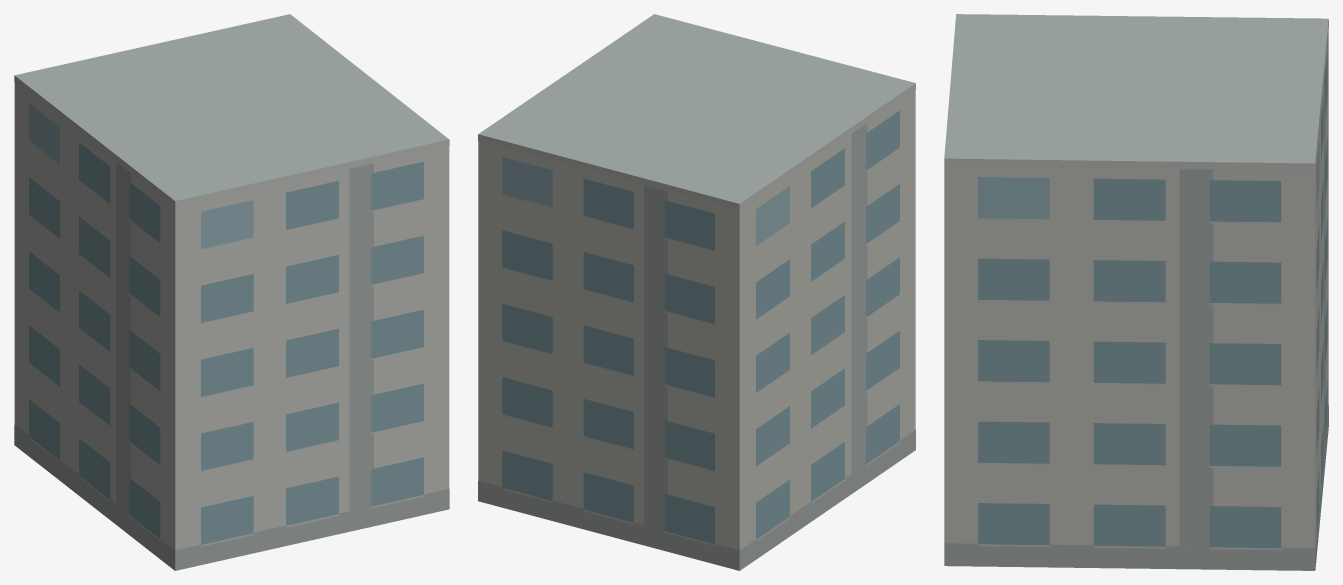
The model's file is survey-upis-33014968.glb.
The picture shows the model from 3 angles, left to right: view 1: azimuth 30°, elevation 25°; view 2: azimuth 150°, elevation 25°; view 3: azimuth 270°, elevation 25°; orthographic projection. The views are drawn at different scales.
Parts seen in each view (by area): view 1: survey-upis-33014968.tmp; view 2: survey-upis-33014968.tmp; view 3: survey-upis-33014968.tmp.
Part boxes in pixels (x1,y1,x2,y2): survey-upis-33014968.tmp: (14,14,449,570); survey-upis-33014968.tmp: (478,14,915,570); survey-upis-33014968.tmp: (944,14,1328,570).
Bounding box in the file's own units: 10.55 × 13.4 × 11.47.
